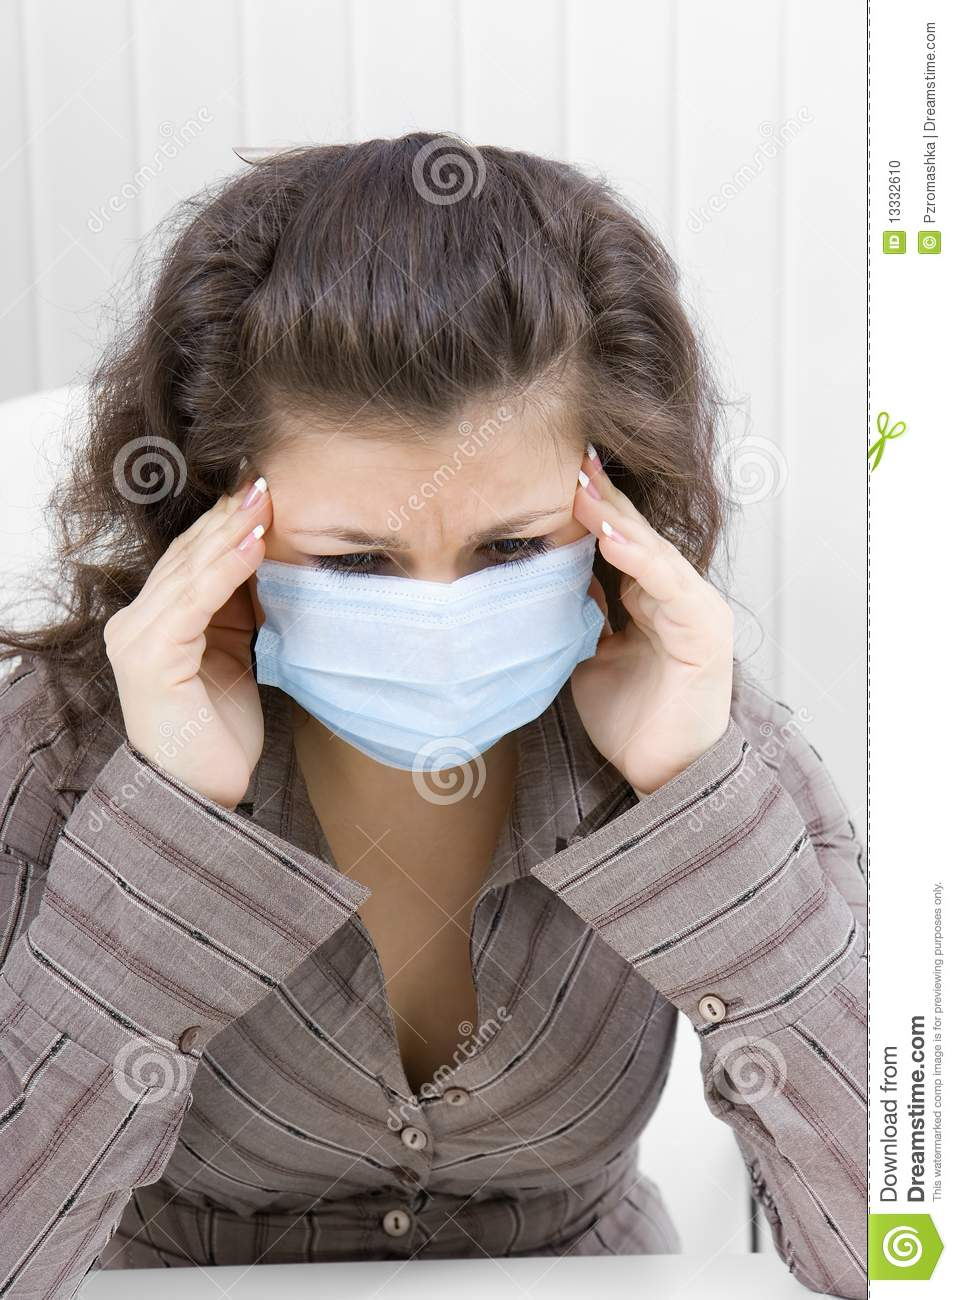mask: (250, 554, 609, 763)
